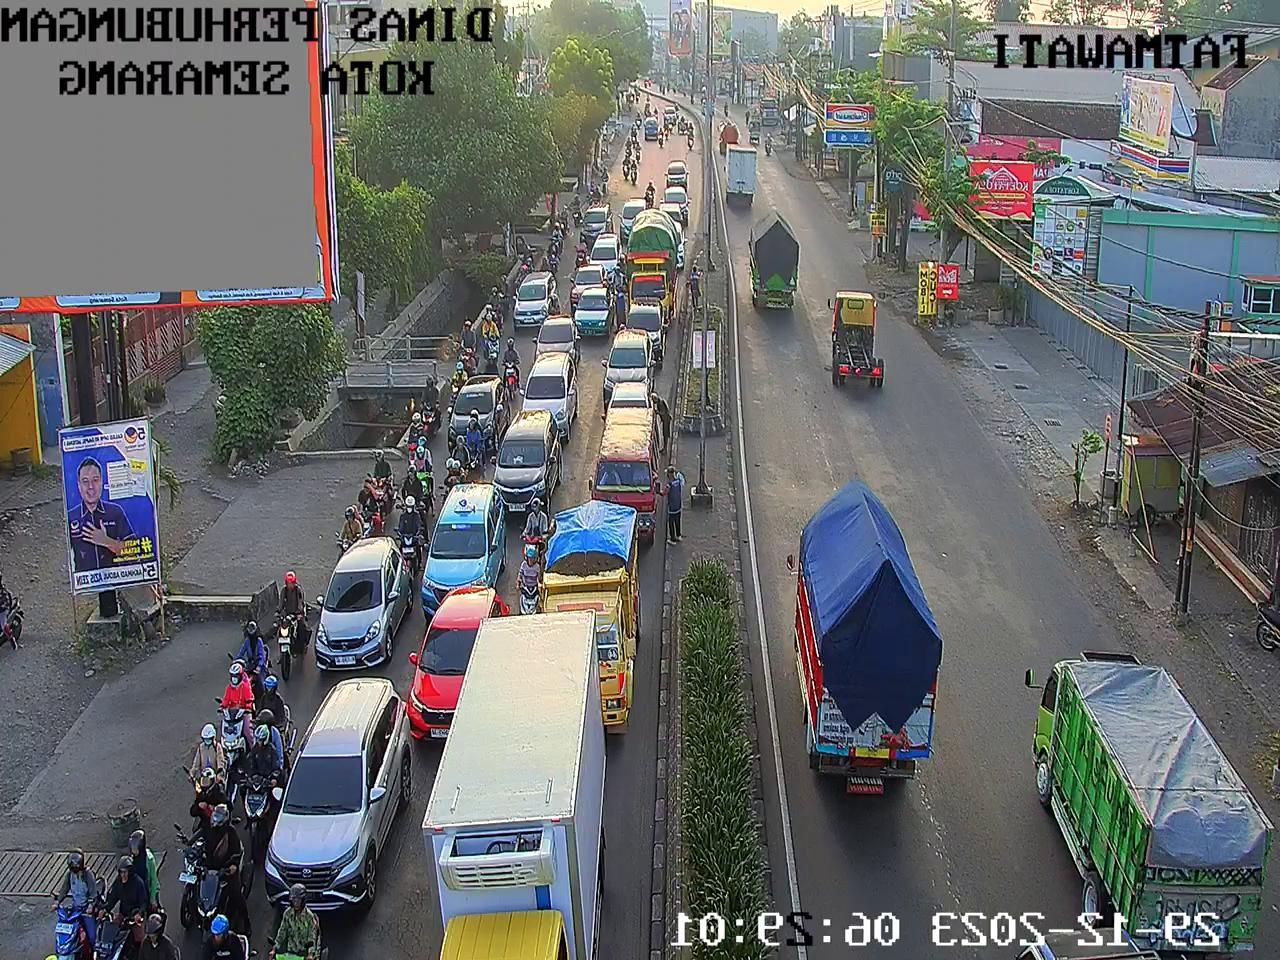car: (256, 674, 396, 930), (409, 590, 509, 734), (315, 522, 404, 657), (423, 481, 496, 608), (603, 411, 657, 511), (494, 415, 556, 501), (446, 377, 503, 439), (604, 329, 661, 376), (521, 361, 574, 410), (514, 270, 553, 326), (528, 319, 578, 362), (592, 382, 662, 410), (628, 304, 668, 348), (574, 288, 612, 334), (573, 266, 604, 309), (572, 208, 613, 238), (592, 239, 622, 266), (621, 201, 644, 236), (659, 229, 683, 259), (666, 162, 689, 185), (659, 204, 682, 226), (666, 190, 687, 206), (661, 106, 675, 127), (646, 119, 657, 136)
motorcycle: (83, 838, 166, 954), (193, 807, 247, 928), (44, 841, 97, 960), (200, 661, 243, 762), (247, 720, 289, 818), (276, 890, 333, 960), (118, 916, 202, 960), (181, 793, 212, 913), (163, 723, 221, 786), (246, 670, 288, 753), (221, 612, 265, 684), (204, 907, 262, 960), (514, 496, 555, 563), (510, 549, 546, 622), (274, 562, 299, 659), (396, 494, 422, 576), (347, 484, 386, 534), (394, 470, 428, 519), (335, 501, 355, 582), (436, 363, 468, 414), (362, 449, 391, 497), (437, 461, 464, 507), (493, 342, 514, 397), (398, 418, 428, 457), (445, 433, 471, 476), (473, 288, 500, 325), (413, 443, 439, 479), (415, 380, 440, 417), (570, 232, 595, 268), (477, 320, 500, 357), (461, 417, 481, 460), (603, 265, 624, 301), (492, 270, 512, 304), (460, 318, 476, 358), (452, 349, 478, 373), (547, 215, 565, 248), (564, 193, 582, 227), (589, 187, 603, 217), (595, 168, 609, 199), (511, 262, 529, 284), (639, 181, 654, 207), (615, 153, 631, 177), (615, 251, 631, 272), (533, 264, 549, 284), (522, 253, 534, 278), (584, 176, 595, 202), (548, 245, 561, 264), (628, 163, 641, 182), (621, 135, 631, 155), (628, 125, 639, 142), (633, 143, 644, 159), (656, 129, 665, 147), (678, 118, 688, 133), (687, 134, 695, 151), (636, 112, 642, 130), (663, 125, 670, 140), (645, 101, 651, 118), (626, 90, 633, 103), (675, 103, 682, 116), (652, 108, 661, 118), (669, 116, 675, 129), (686, 124, 695, 132), (644, 94, 651, 103), (632, 85, 639, 93), (637, 91, 640, 104)
truck: (434, 619, 604, 960), (544, 517, 632, 716), (624, 205, 686, 299)
